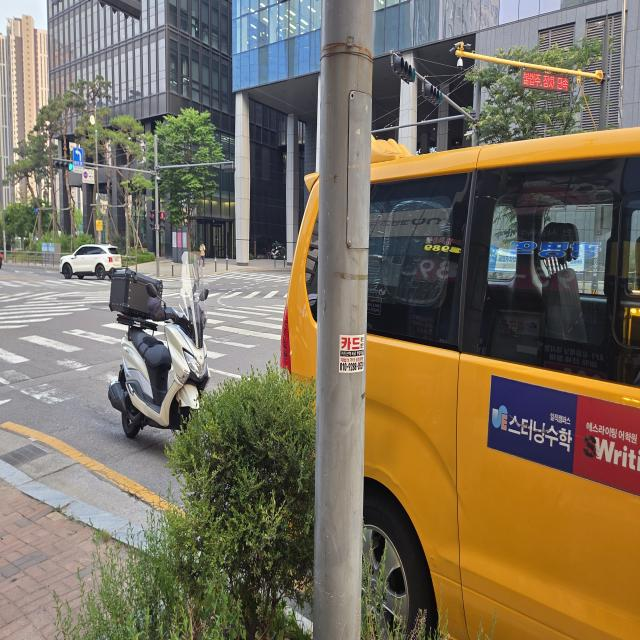car: (259, 103, 640, 640)
motorcycle: (86, 231, 219, 450)
